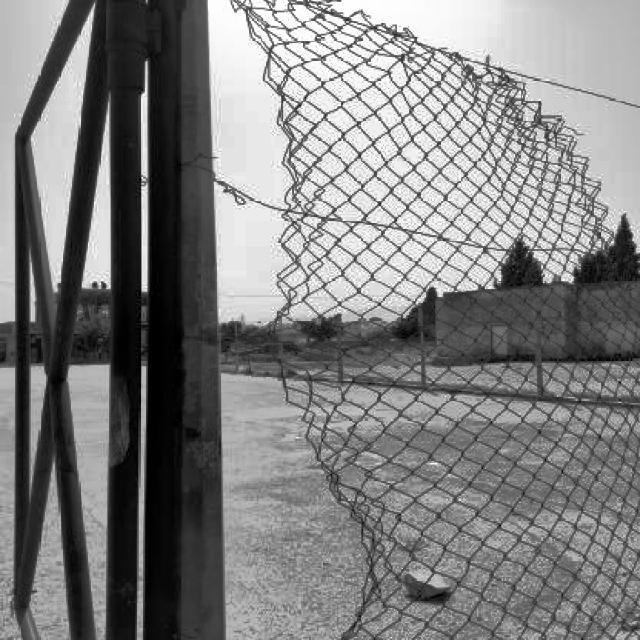anomaly-fence: (198, 1, 412, 640), (471, 8, 640, 262)
